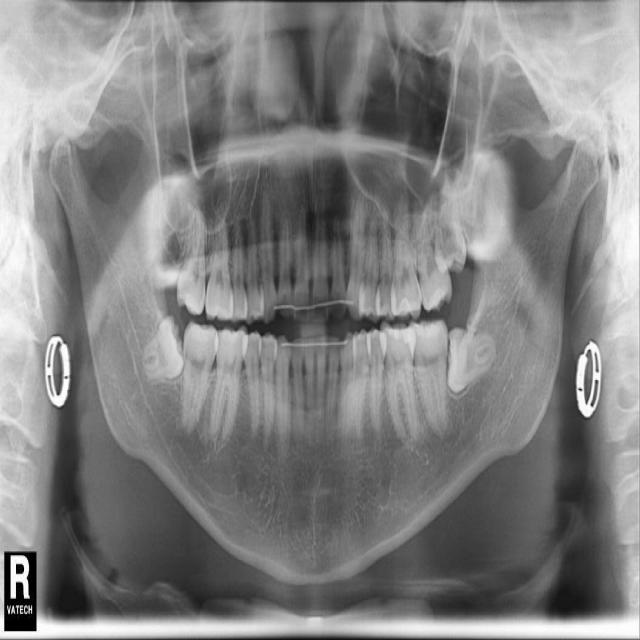73: (592, 555, 596, 570)
BioHorizons Implant: (406, 191, 455, 315)
BioLife Implant: (433, 169, 469, 276)
Biomet 3i Implant: (447, 326, 497, 394)
Blue Sky Bio Implant: (406, 318, 454, 439)
Caries: (176, 196, 209, 317)
Implant: (182, 322, 219, 433)
Keystone Dental Implant: (138, 314, 187, 382)
